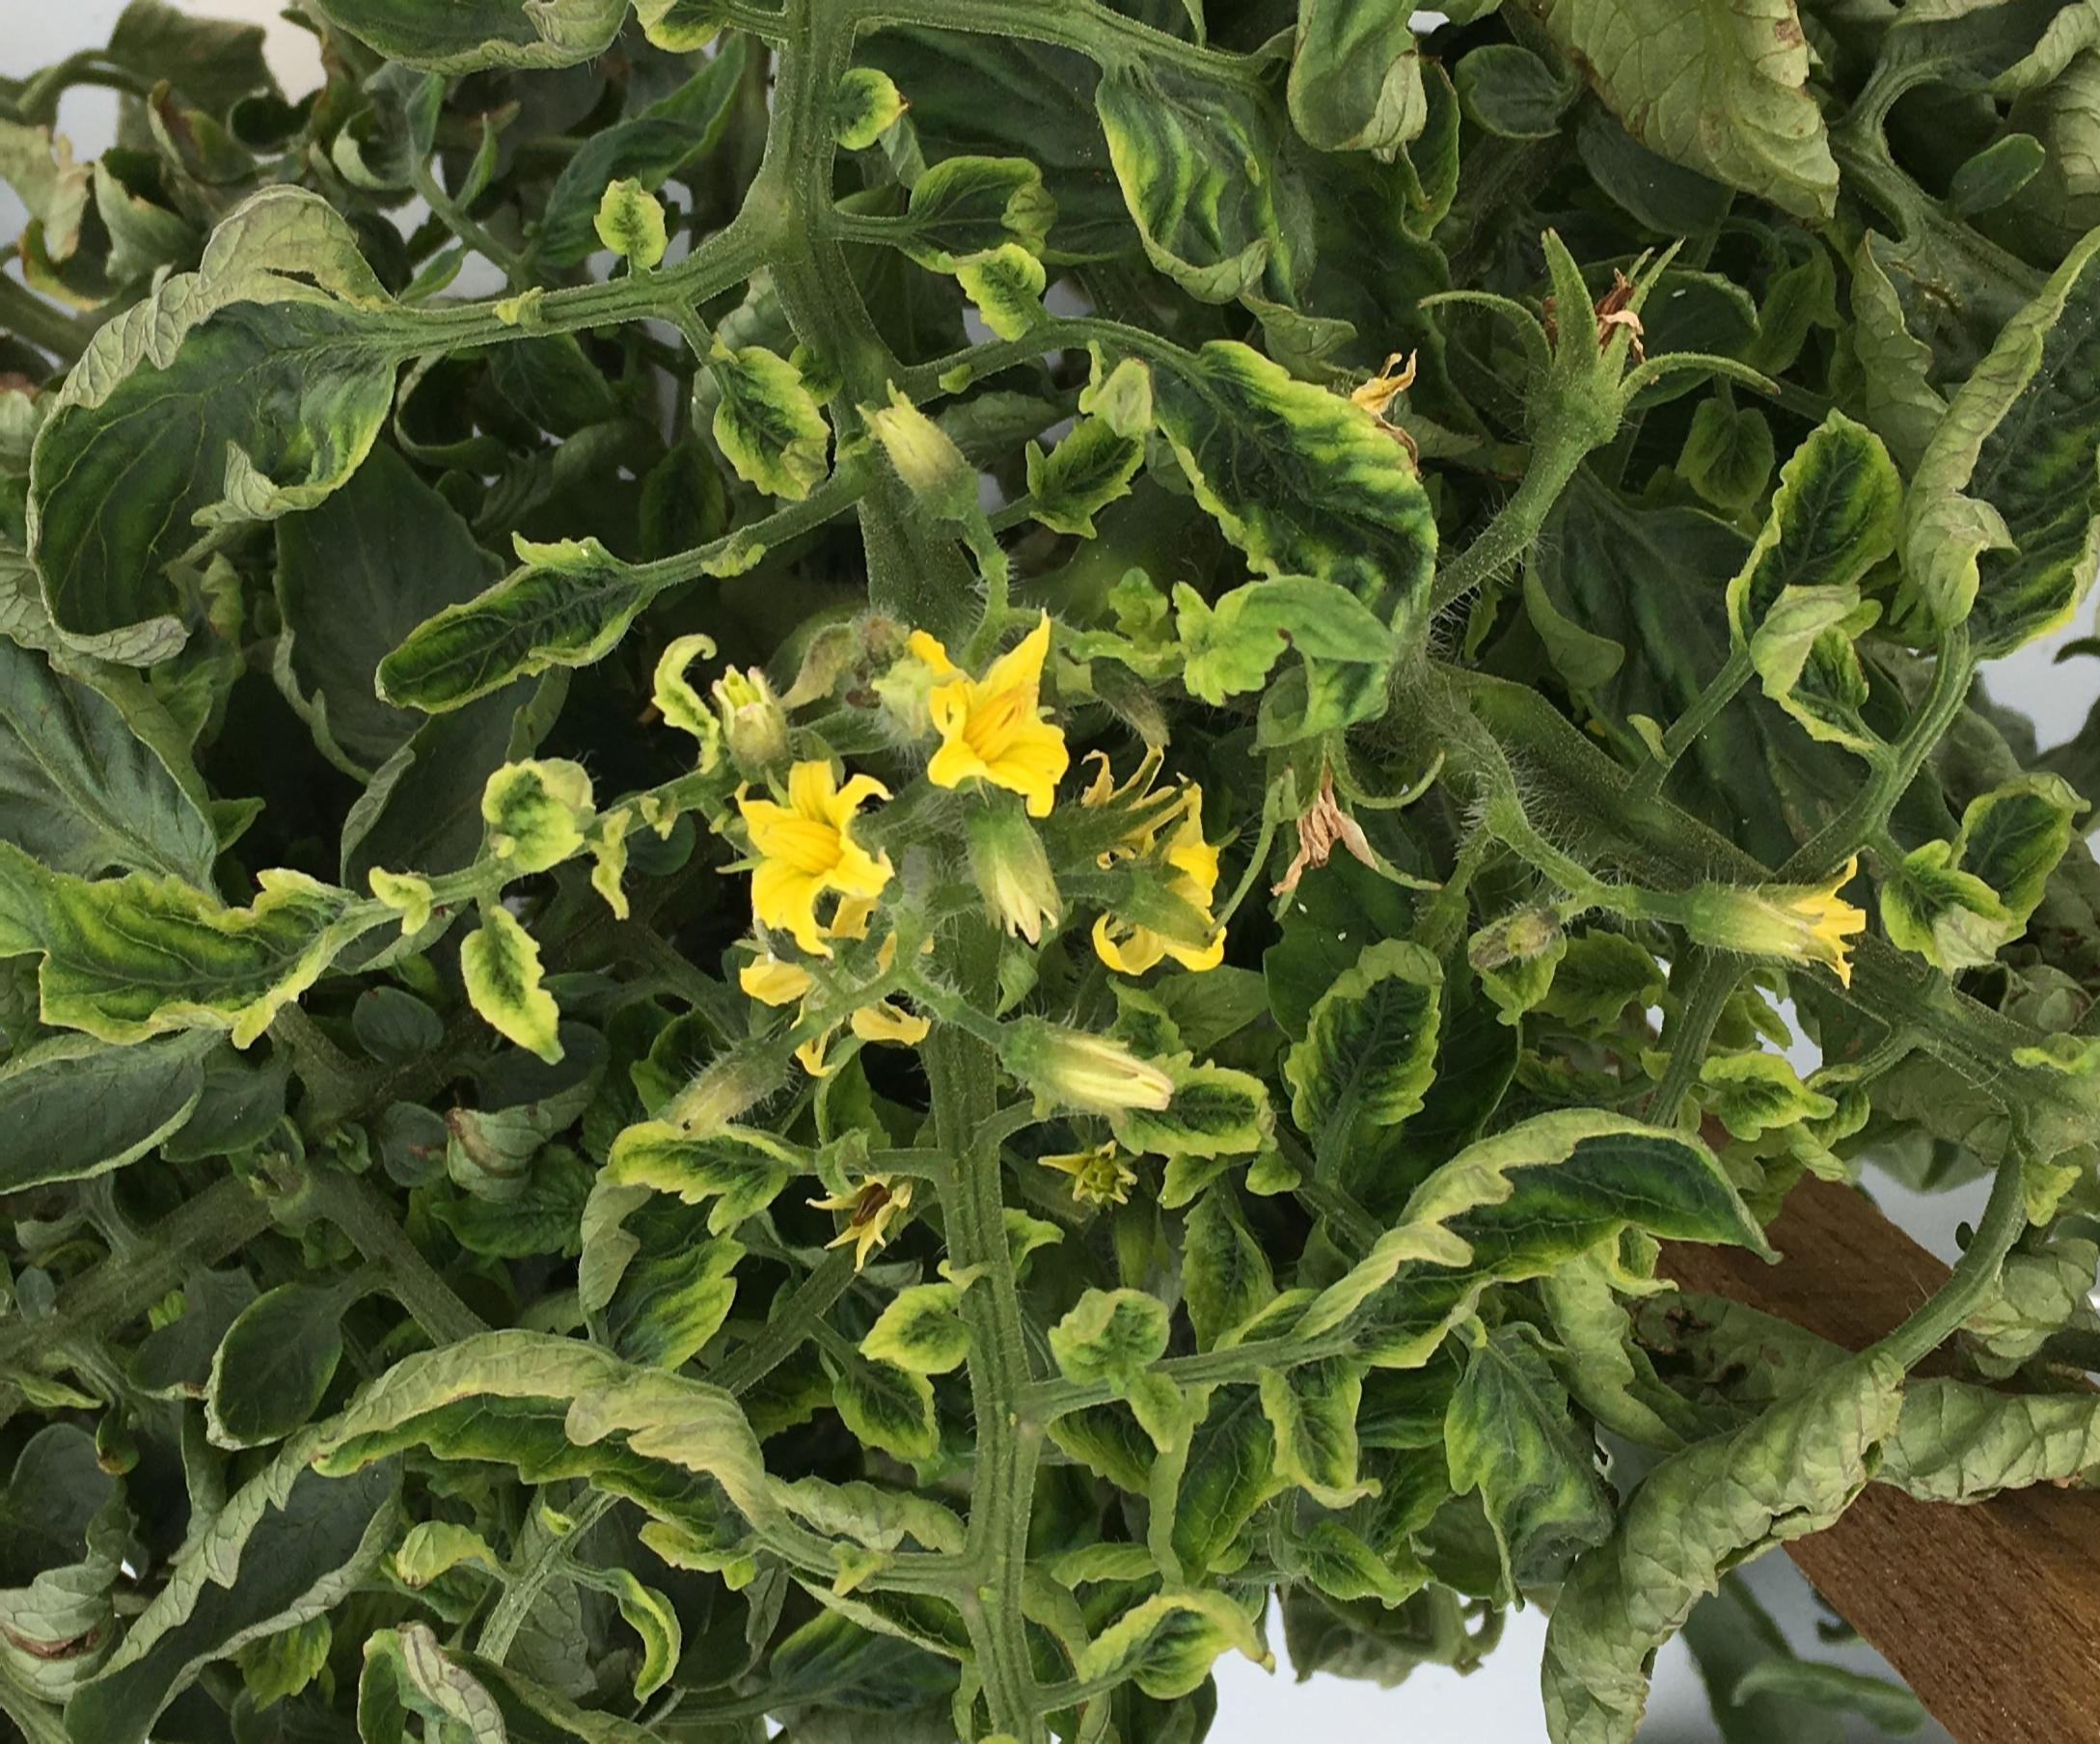Tomato leaf yellow virus: (12, 124, 433, 715), (159, 1339, 926, 1655), (1238, 1081, 1783, 1507), (1097, 312, 1477, 757), (0, 726, 405, 1093), (1055, 49, 1451, 420), (1715, 364, 1953, 764), (1268, 938, 1484, 1172)
